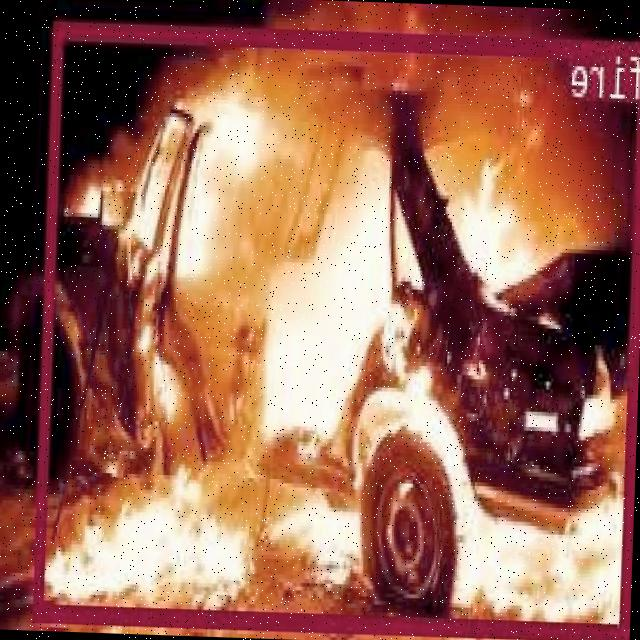fire: (36, 19, 640, 637)
